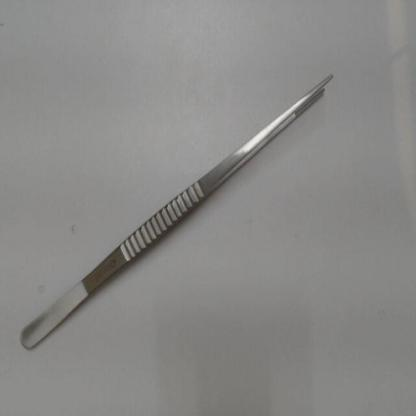DeBakey Dissector: (12, 47, 349, 362)
